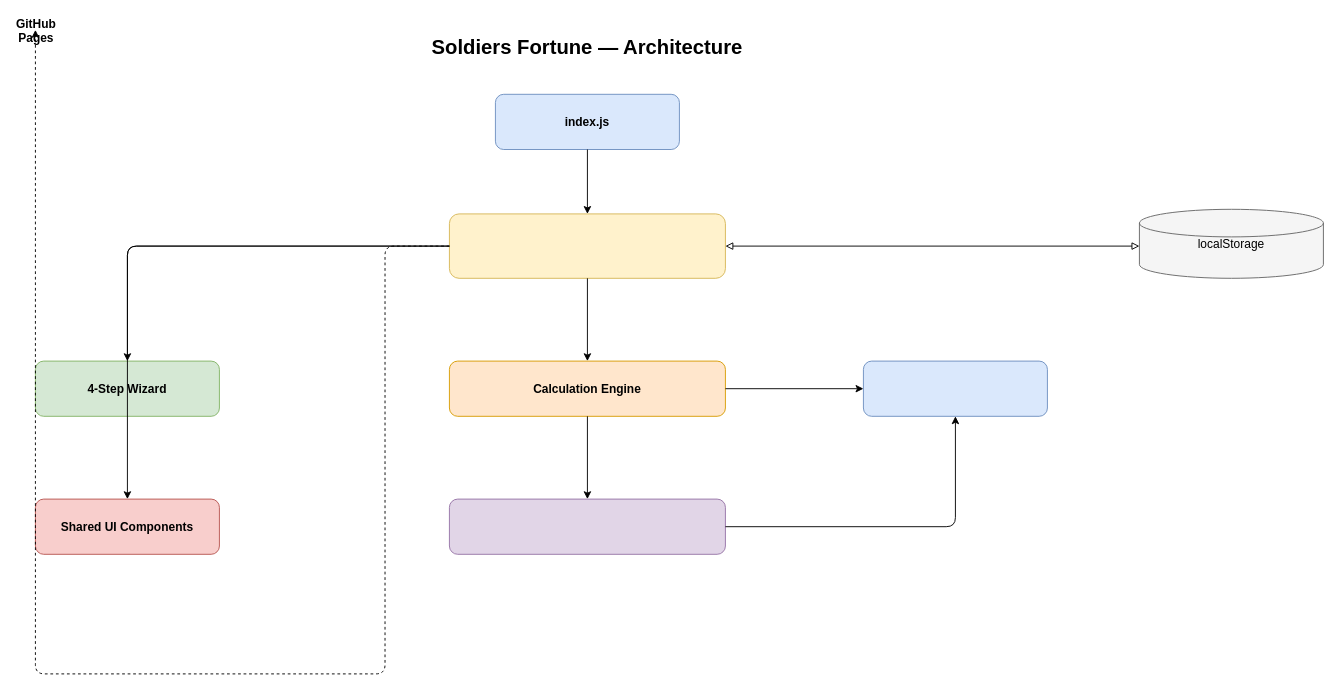
The diagram is 1340 pixels wide and 697 high, and some of its shapes have lost their labels. The centre of each missing label's shape, as x and y in pixels:
"Action Plans (MOD & Civilian)" belongs at pixel 586 526.
"App.js" belongs at pixel 586 245.
"Results Display" belongs at pixel 954 388.
